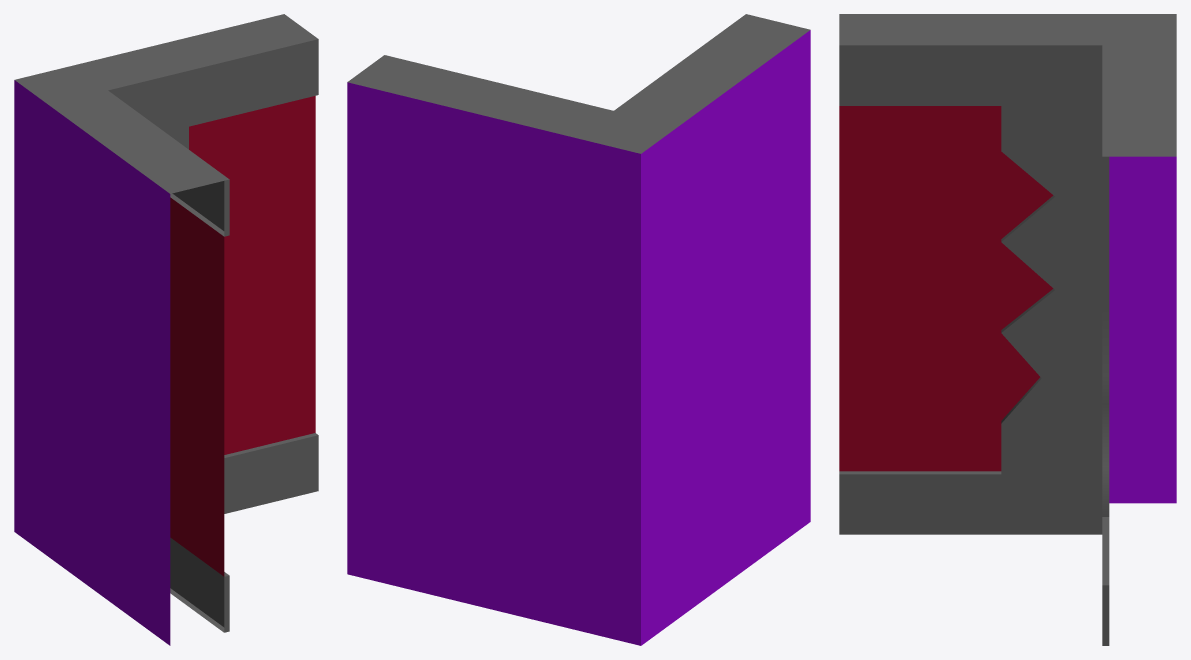
The model's file is Wall_INCorner_X_1x2.fbx.
3 renders of one model, left to right at view 1: azimuth 30°, elevation 25°; view 2: azimuth 150°, elevation 25°; view 3: azimuth 270°, elevation 25°, orthographic. The views are drawn at different scales.
Parts seen in each view (by area): view 1: Corner_In_1x5; view 2: Corner_In_1x5; view 3: Corner_In_1x5.
Boxes of the visible parts, box(x1,y1,x2,y2) form: Corner_In_1x5: box(14, 14, 318, 645); Corner_In_1x5: box(347, 14, 810, 645); Corner_In_1x5: box(839, 14, 1176, 645).
Bounding box in the file's own units: 1.25 × 2 × 1.25.
